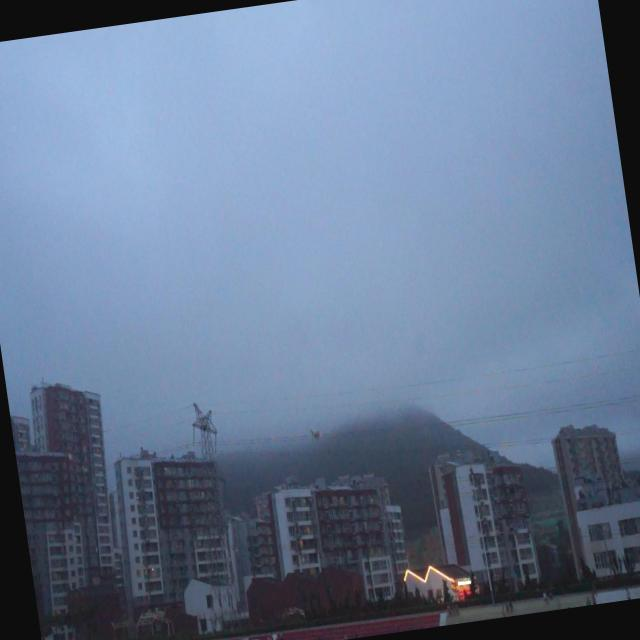drone: (306, 422, 326, 446)
